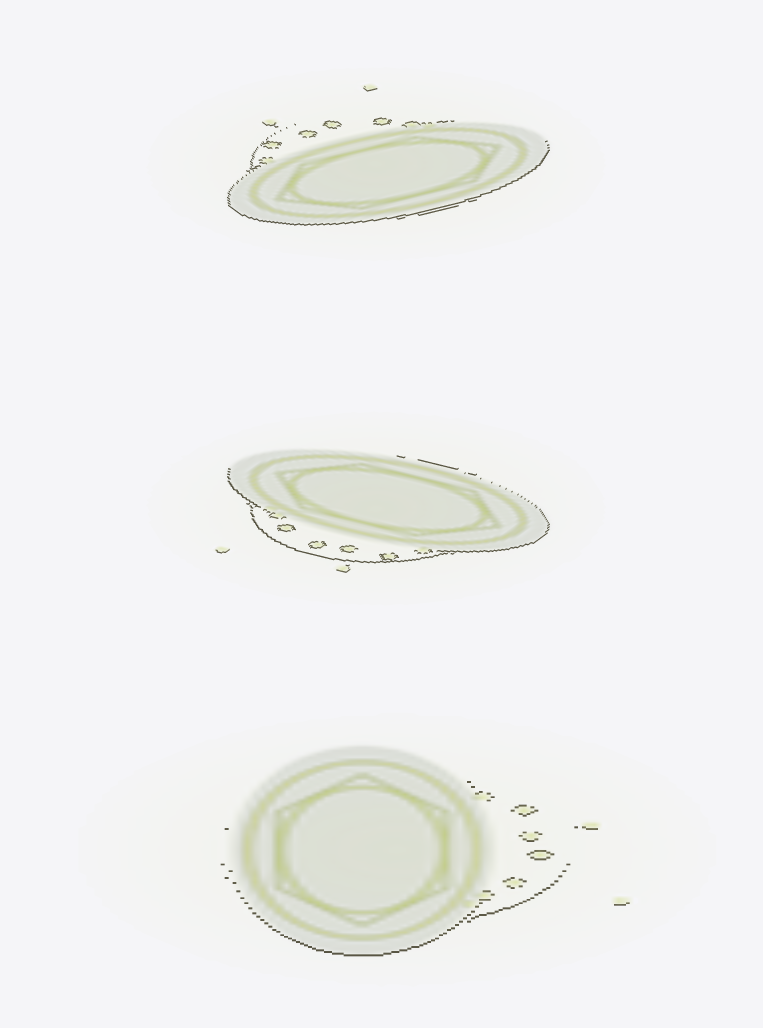
Rendered from ActiveAltar.glb.
3 views of the same model, one above another, from view 1: azimuth 30°, elevation 25°; view 2: azimuth 150°, elevation 25°; view 3: azimuth 270°, elevation 25° (orthographic). The views are drawn at different scales.
Parts seen in each view (by area): view 1: Visual; view 2: Visual; view 3: Visual.
Part boxes in pixels (left/top/right/bottom): Visual: left=227, top=84, right=549, bottom=225; Visual: left=214, top=449, right=549, bottom=572; Visual: left=220, top=746, right=631, bottom=956.
Bounding box in the file's own units: 7.2 × 0.02 × 6.92.
3 materials, 2 textured.
